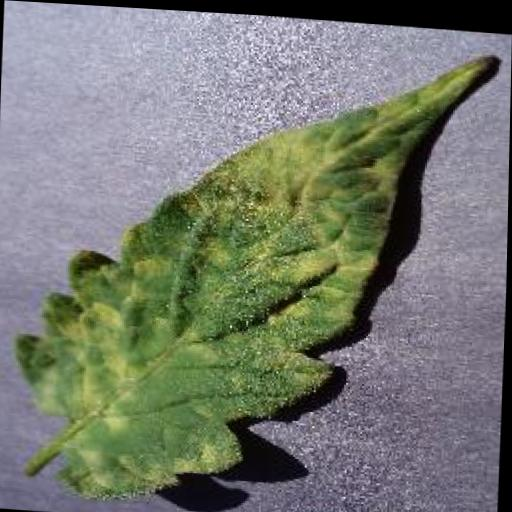Leaf Mold: (11, 16, 493, 512)
